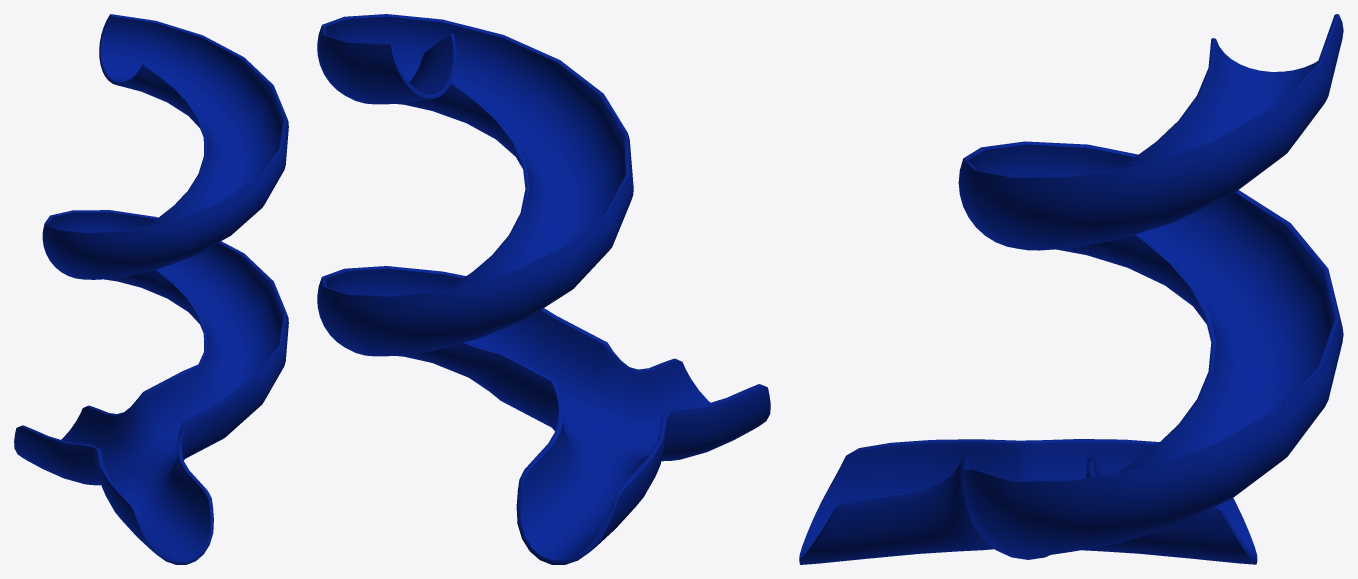
The model's file is Slider 04.FBX.
3 views of the same model, side by side, from view 1: azimuth 30°, elevation 25°; view 2: azimuth 150°, elevation 25°; view 3: azimuth 270°, elevation 25° (orthographic). The views are drawn at different scales.
Visible parts, largest first — view 1: AM94_044_obj_011; view 2: AM94_044_obj_011; view 3: AM94_044_obj_011.
Boxes of the visible parts, box(x1,y1,x2,y2) form: AM94_044_obj_011: box(14, 14, 288, 564); AM94_044_obj_011: box(317, 14, 770, 564); AM94_044_obj_011: box(799, 14, 1343, 564).
Size of the model in its own units: 170 by 272 by 216.
